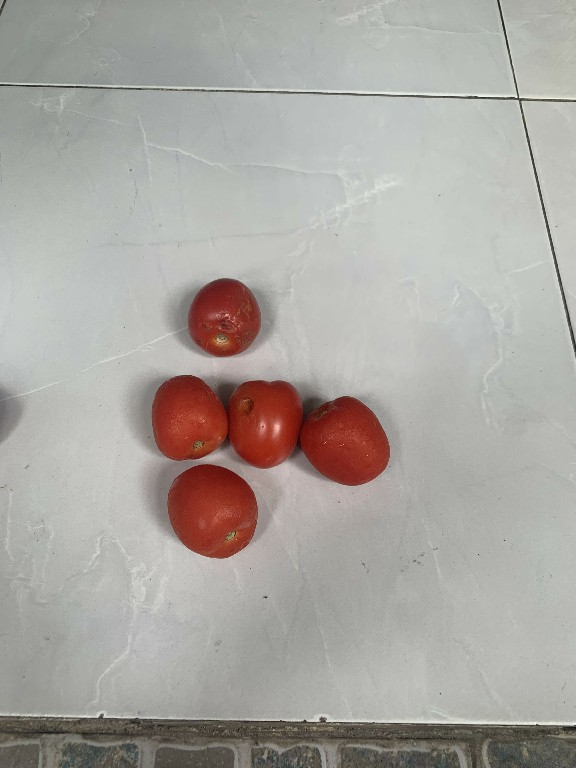NG: (181, 265, 270, 370), (222, 372, 303, 471)
OK: (158, 459, 268, 568), (305, 392, 398, 494), (143, 366, 228, 462)
